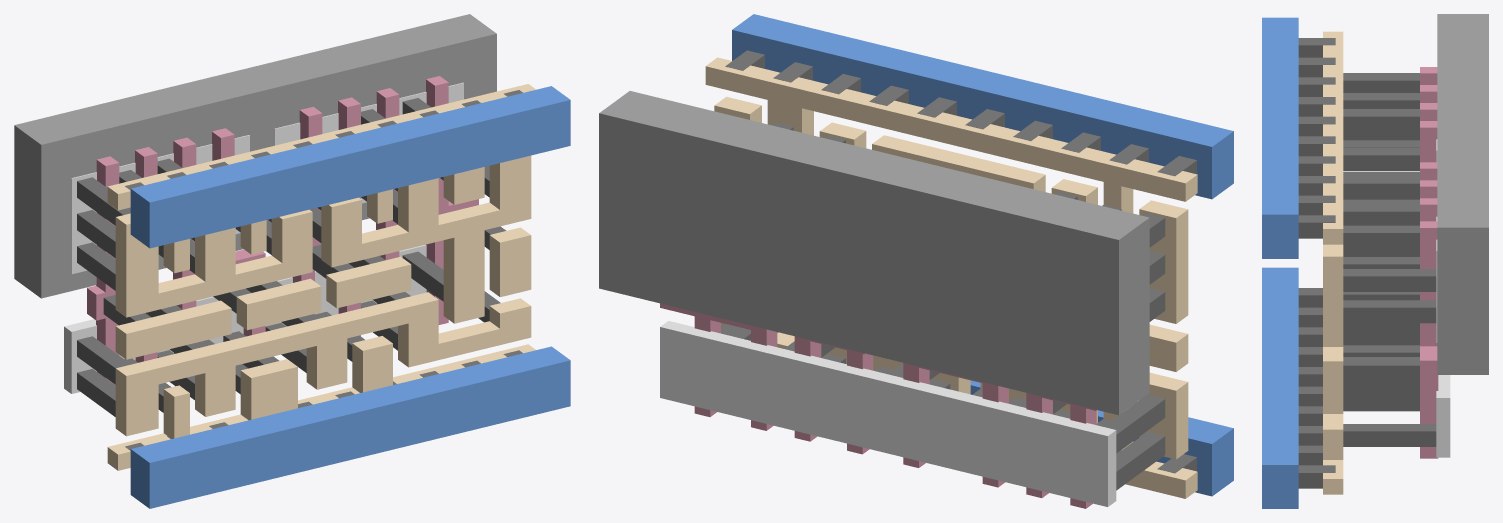
The model's file is sky130_fd_sc_hd__o31ai_2.gds.gltf.
3 views of the same model, side by side, from view 1: azimuth 30°, elevation 25°; view 2: azimuth 150°, elevation 25°; view 3: azimuth 270°, elevation 25° (orthographic). The views are drawn at different scales.
Parts seen in each view (by area): view 1: sky130_fd_sc_hd__o31ai_2_li1, sky130_fd_sc_hd__o31ai_2_met1, sky130_fd_sc_hd__o31ai_2_nwell, sky130_fd_sc_hd__o31ai_2_licon, sky130_fd_sc_hd__o31ai_2_poly, sky130_fd_sc_hd__o31ai_2_diff, sky130_fd_sc_hd__o31ai_2_mcon; view 2: sky130_fd_sc_hd__o31ai_2_nwell, sky130_fd_sc_hd__o31ai_2_diff, sky130_fd_sc_hd__o31ai_2_li1, sky130_fd_sc_hd__o31ai_2_met1, sky130_fd_sc_hd__o31ai_2_licon, sky130_fd_sc_hd__o31ai_2_mcon, sky130_fd_sc_hd__o31ai_2_poly; view 3: sky130_fd_sc_hd__o31ai_2_licon, sky130_fd_sc_hd__o31ai_2_nwell, sky130_fd_sc_hd__o31ai_2_met1, sky130_fd_sc_hd__o31ai_2_mcon, sky130_fd_sc_hd__o31ai_2_li1, sky130_fd_sc_hd__o31ai_2_poly, sky130_fd_sc_hd__o31ai_2_diff.
Part boxes in pixels (x1=…): sky130_fd_sc_hd__o31ai_2_li1: x1=107, y1=84, x2=535, y2=470; sky130_fd_sc_hd__o31ai_2_met1: x1=130, y1=86, x2=570, y2=508; sky130_fd_sc_hd__o31ai_2_nwell: x1=14, y1=14, x2=496, y2=298; sky130_fd_sc_hd__o31ai_2_licon: x1=77, y1=98, x2=506, y2=416; sky130_fd_sc_hd__o31ai_2_poly: x1=87, y1=76, x2=478, y2=385; sky130_fd_sc_hd__o31ai_2_diff: x1=64, y1=82, x2=463, y2=393; sky130_fd_sc_hd__o31ai_2_mcon: x1=125, y1=90, x2=522, y2=450; sky130_fd_sc_hd__o31ai_2_nwell: x1=599, y1=91, x2=1149, y2=415; sky130_fd_sc_hd__o31ai_2_diff: x1=660, y1=321, x2=1116, y2=506; sky130_fd_sc_hd__o31ai_2_li1: x1=705, y1=57, x2=1197, y2=498; sky130_fd_sc_hd__o31ai_2_met1: x1=732, y1=14, x2=1233, y2=496; sky130_fd_sc_hd__o31ai_2_licon: x1=721, y1=122, x2=1165, y2=490; sky130_fd_sc_hd__o31ai_2_mcon: x1=725, y1=50, x2=1196, y2=473; sky130_fd_sc_hd__o31ai_2_poly: x1=660, y1=303, x2=1097, y2=508; sky130_fd_sc_hd__o31ai_2_licon: x1=1343, y1=73, x2=1436, y2=446; sky130_fd_sc_hd__o31ai_2_nwell: x1=1437, y1=14, x2=1488, y2=374; sky130_fd_sc_hd__o31ai_2_met1: x1=1262, y1=17, x2=1298, y2=508; sky130_fd_sc_hd__o31ai_2_mcon: x1=1298, y1=38, x2=1335, y2=488; sky130_fd_sc_hd__o31ai_2_li1: x1=1323, y1=31, x2=1343, y2=494; sky130_fd_sc_hd__o31ai_2_poly: x1=1420, y1=67, x2=1438, y2=458; sky130_fd_sc_hd__o31ai_2_diff: x1=1436, y1=139, x2=1450, y2=457.
Size of the model in its own units: 4.98 by 3.2 by 2.24.
